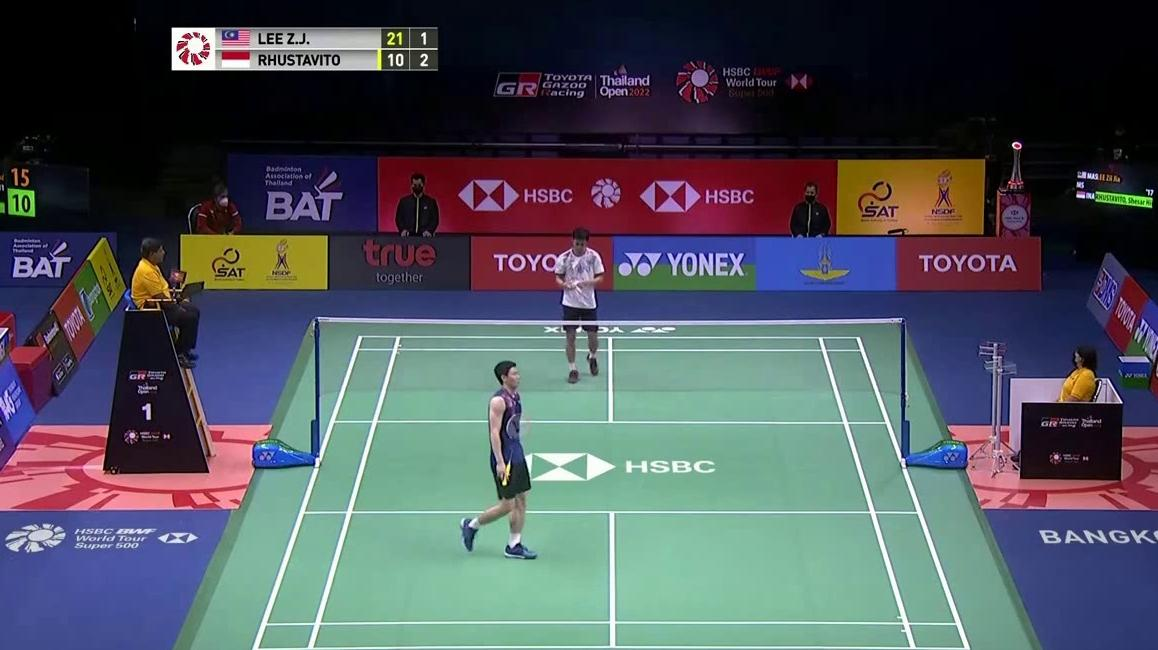racket: (503, 412, 531, 485)
